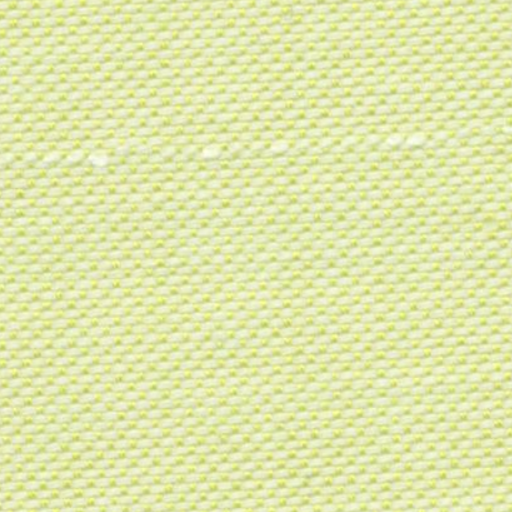TuoSha: (22, 114, 492, 186)
